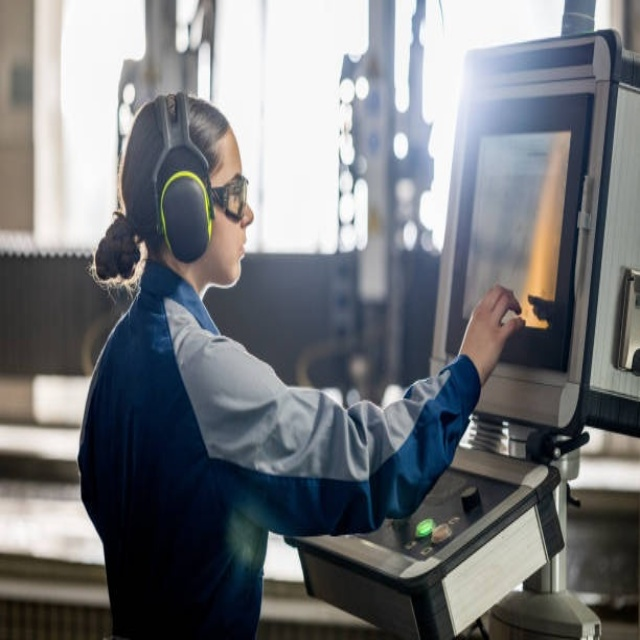Gafas: (209, 175, 249, 220)
Sin_guantes: (454, 278, 528, 376)
Sin_mascara: (223, 226, 250, 281)
